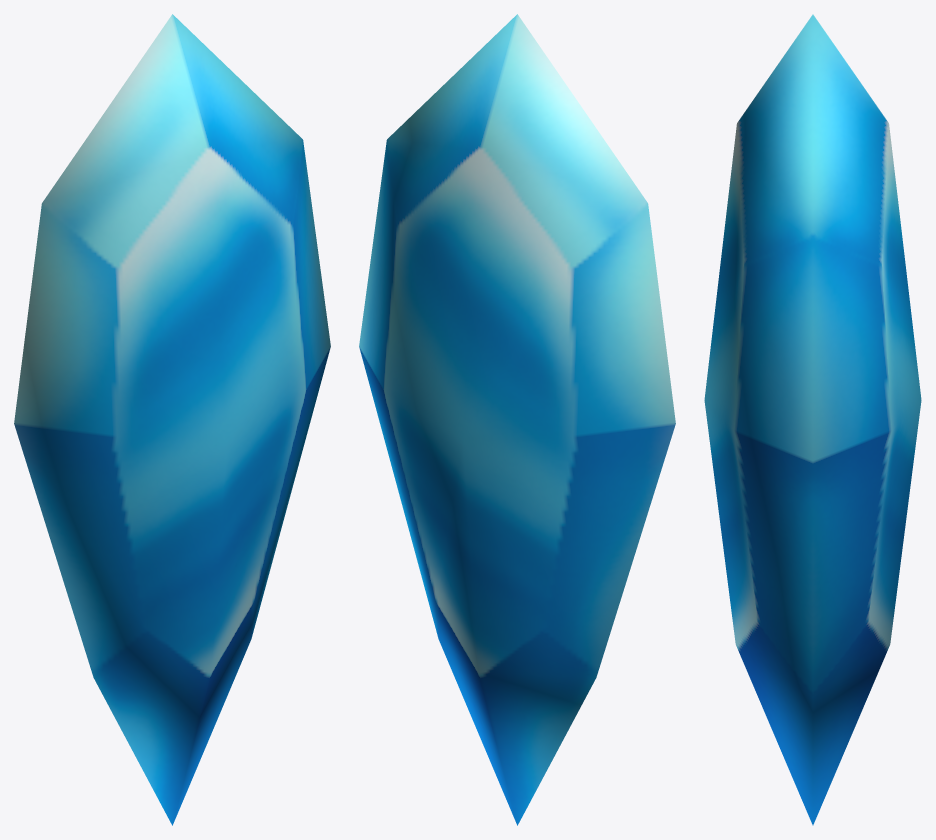
Rendered from GreatCrystal_01_a.fbx.
3 views of the same model, side by side, from view 1: azimuth 30°, elevation 25°; view 2: azimuth 150°, elevation 25°; view 3: azimuth 270°, elevation 25° (orthographic).
Parts seen in each view (by area): view 1: GreatCrystal_01_a; view 2: GreatCrystal_01_a; view 3: GreatCrystal_01_a.
Boxes of the visible parts, x1=… form: GreatCrystal_01_a: x1=14, y1=14, x2=330, y2=825; GreatCrystal_01_a: x1=359, y1=14, x2=675, y2=825; GreatCrystal_01_a: x1=704, y1=14, x2=921, y2=825.
Size of the model in its own units: 89.44 by 219 by 53.06.
1 material, 1 textured.
